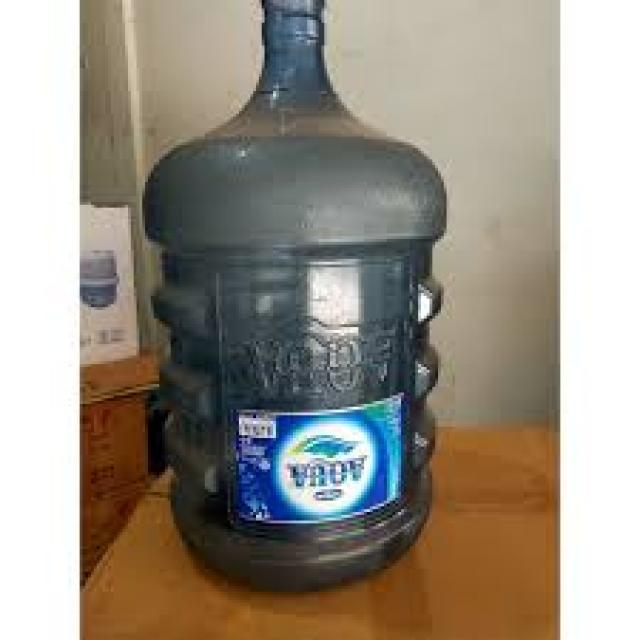Galon: (140, 0, 450, 592)
